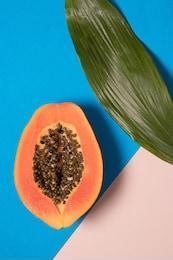papaya: (13, 103, 103, 231)
